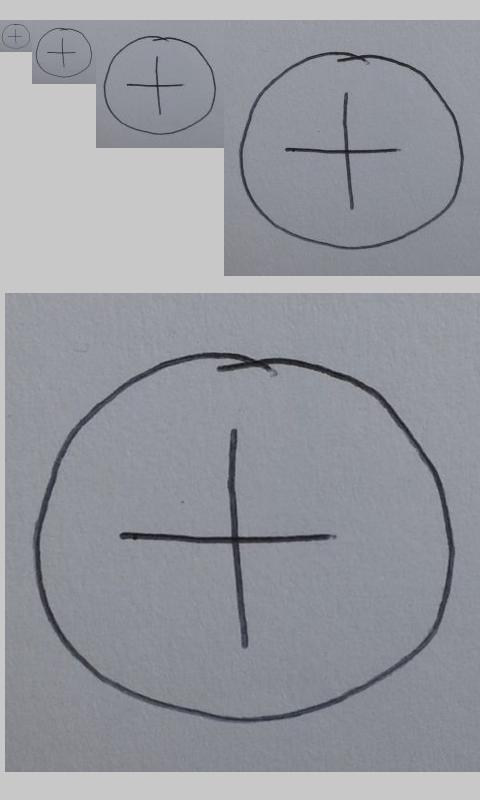button: (31, 347, 456, 726), (237, 50, 464, 250), (102, 35, 218, 136), (35, 27, 93, 78), (1, 23, 31, 50)
